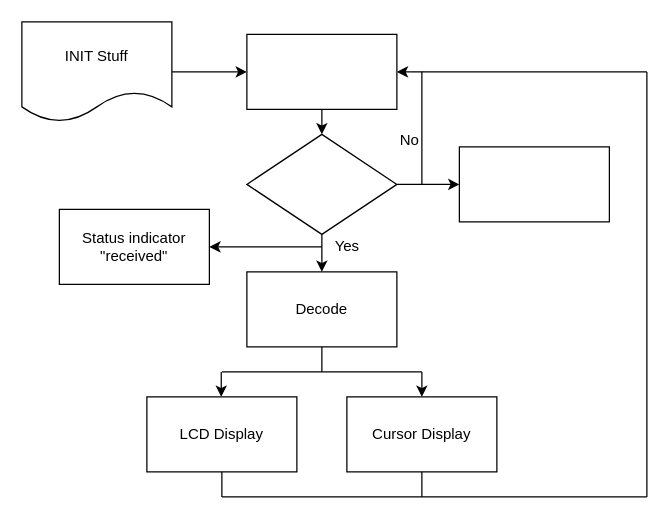
This 670x520 diagram has some shape labels left out. Each missing label, with the centre of its shape:
Code Received?: pixel 321 183
I2C Read: pixel 321 71
Status indicator "not received": pixel 533 184
